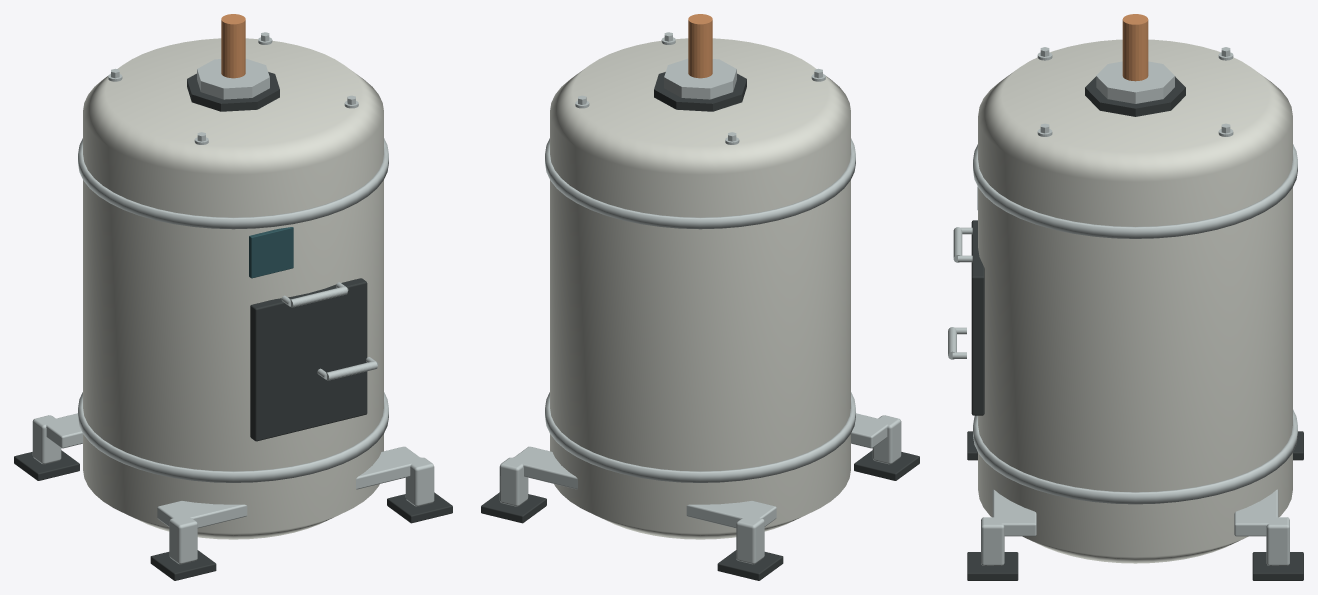
The model's file is generation-ship-hydroponics-generation-ship-hydroponic-4e1f9178__31505.glb.
3 renders of one model, left to right at view 1: azimuth 30°, elevation 25°; view 2: azimuth 150°, elevation 25°; view 3: azimuth 270°, elevation 25°, orthographic. The views are drawn at different scales.
Parts seen in each view (by area): view 1: generation-ship-hydroponics-compost-bioreactor; view 2: generation-ship-hydroponics-compost-bioreactor; view 3: generation-ship-hydroponics-compost-bioreactor.
Part boxes in pixels (bbox=[...]): generation-ship-hydroponics-compost-bioreactor: bbox=[14, 14, 452, 580]; generation-ship-hydroponics-compost-bioreactor: bbox=[481, 14, 919, 580]; generation-ship-hydroponics-compost-bioreactor: bbox=[948, 14, 1303, 580].
Bounding box in the file's own units: 0.9199 × 1.48 × 0.972.
